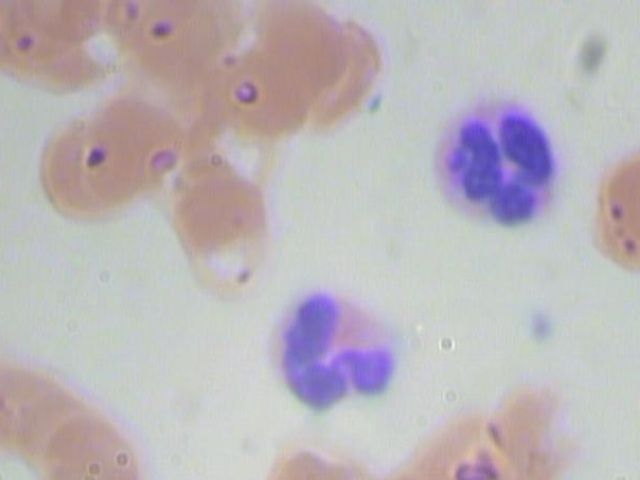Platelets: (519, 308, 562, 354)
RBC: (170, 171, 278, 298), (29, 109, 137, 236), (253, 0, 353, 88), (584, 136, 640, 280), (12, 0, 114, 42)
WBC: (262, 282, 406, 420), (422, 86, 566, 224)
